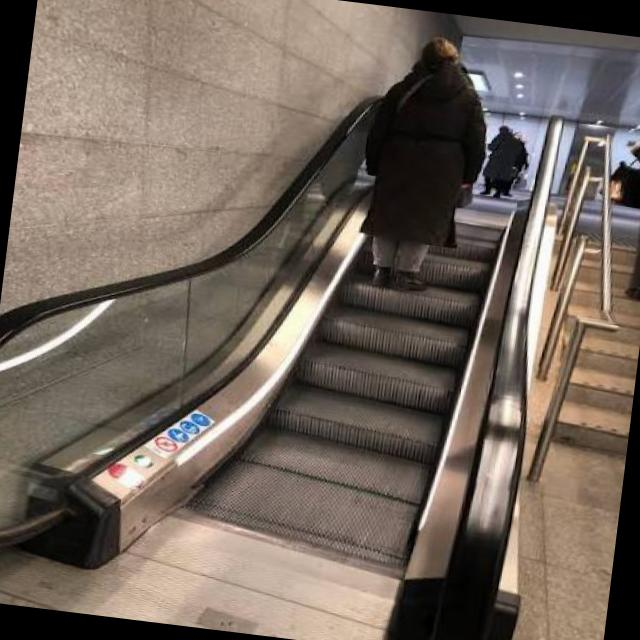escalator: (0, 75, 575, 640)
